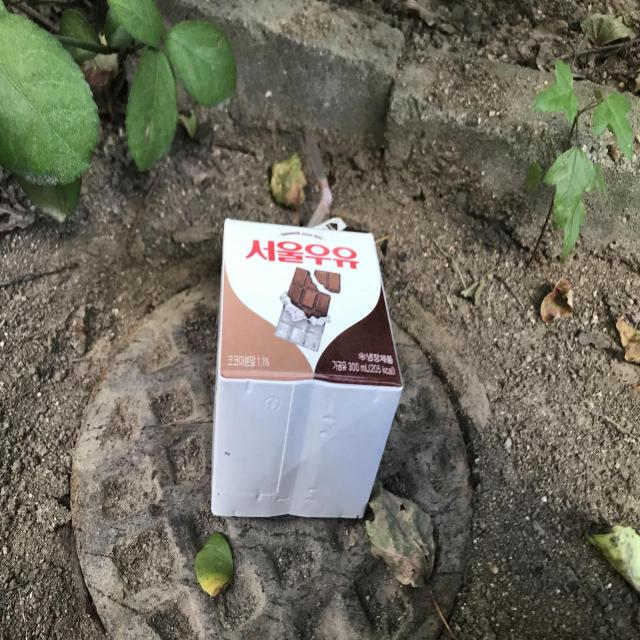paperpack: (212, 219, 402, 518)
